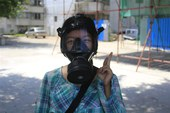face_mask: (66, 32, 93, 59)
